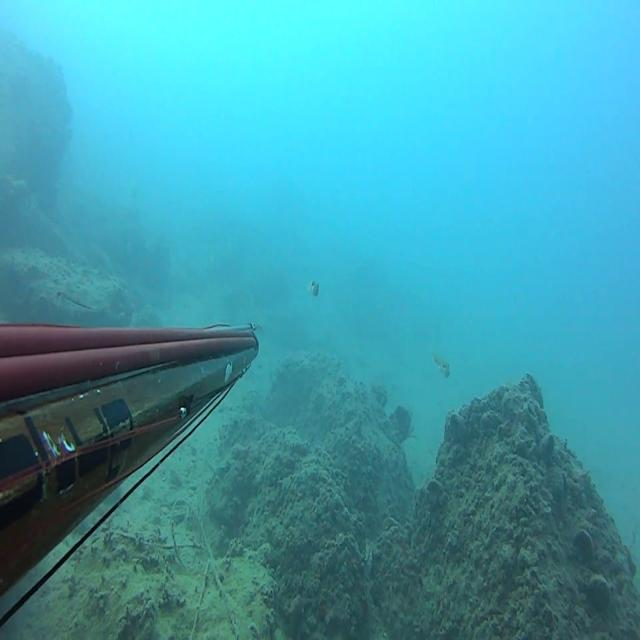Balon Baligi: (58, 290, 96, 316), (431, 350, 449, 378), (307, 280, 319, 297)
